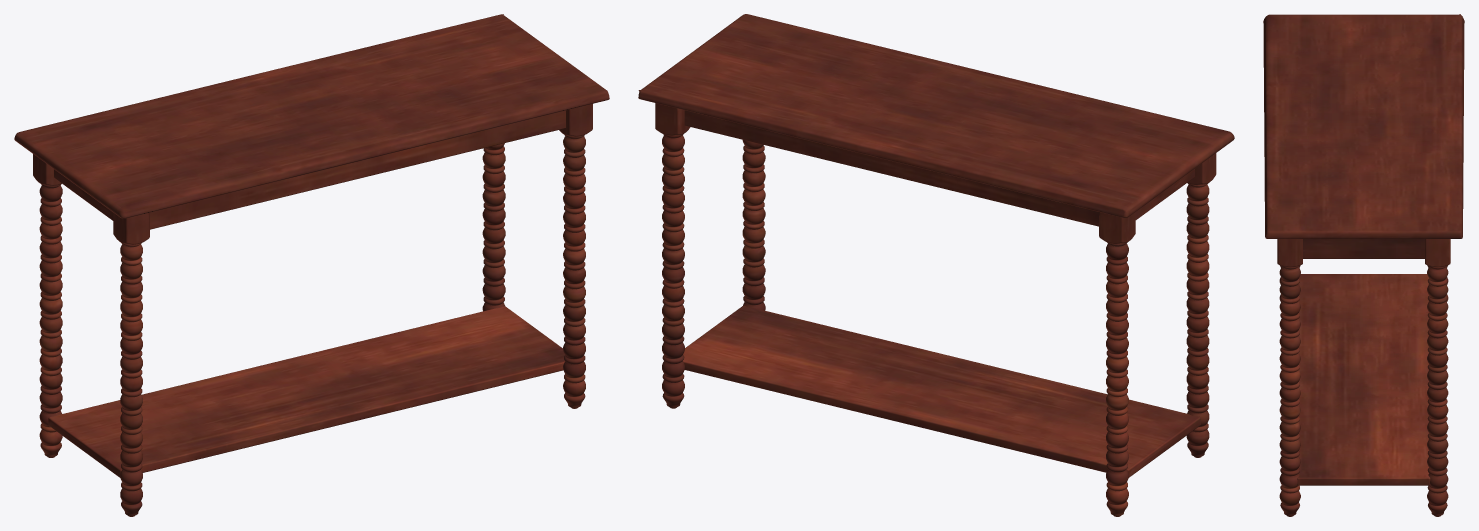
The model's file is abo-B07M6PK31S.glb.
The picture shows the model from 3 angles, left to right: view 1: azimuth 30°, elevation 25°; view 2: azimuth 150°, elevation 25°; view 3: azimuth 270°, elevation 25°; orthographic projection. The views are drawn at different scales.
Size of the model in its own units: 1.18 by 0.74 by 0.459.
Materials: 1 (1 with a texture image).
